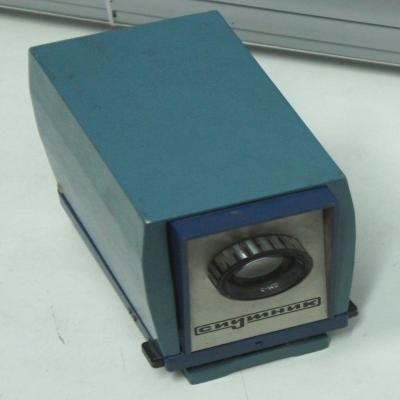technique: (27, 10, 356, 384)
